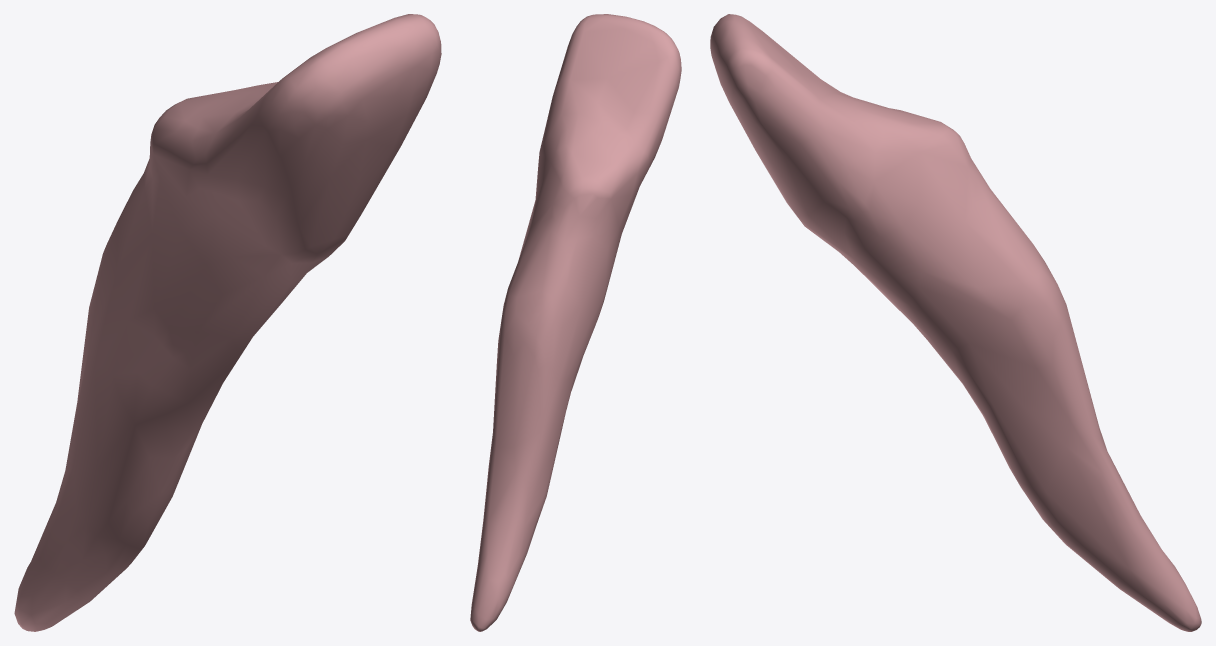
Rendered from fma57143_fj1258.glb.
3 renders of one model, left to right at view 1: azimuth 30°, elevation 25°; view 2: azimuth 150°, elevation 25°; view 3: azimuth 270°, elevation 25°, orthographic. The views are drawn at different scales.
Visible parts, largest first — view 1: FMA57143_FJ1258; view 2: FMA57143_FJ1258; view 3: FMA57143_FJ1258.
Part boxes in pixels (x1,y1,x2,y2): FMA57143_FJ1258: [14, 14, 441, 631]; FMA57143_FJ1258: [470, 14, 681, 631]; FMA57143_FJ1258: [710, 14, 1201, 631].
Size of the model in its own units: 0.00588 by 0.0255 by 0.0182.
